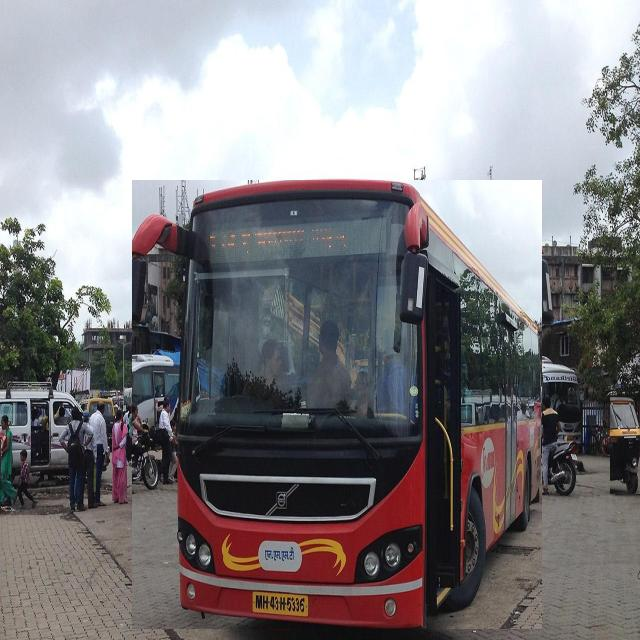autorickshaw: (610, 397, 640, 494)
bus: (132, 180, 541, 629), (494, 354, 581, 445)
motorcycle: (514, 396, 578, 495)
